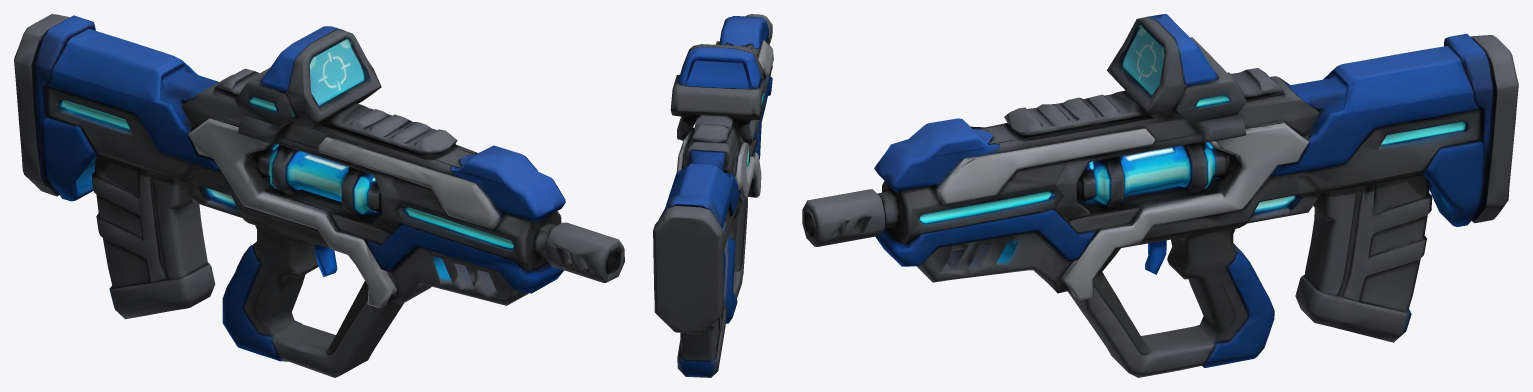
File: pulse_rifle.glb
3 renders of one model, left to right at view 1: azimuth 30°, elevation 25°; view 2: azimuth 150°, elevation 25°; view 3: azimuth 270°, elevation 25°, orthographic. The views are drawn at different scales.
Parts seen in each view (by area): view 1: tripo_node_862b96cd-0523-4ff3-9198-0bddbe70b1e3; view 2: tripo_node_862b96cd-0523-4ff3-9198-0bddbe70b1e3; view 3: tripo_node_862b96cd-0523-4ff3-9198-0bddbe70b1e3.
Boxes of the visible parts, x1=… form: tripo_node_862b96cd-0523-4ff3-9198-0bddbe70b1e3: x1=14, y1=14, x2=624, y2=377; tripo_node_862b96cd-0523-4ff3-9198-0bddbe70b1e3: x1=653, y1=14, x2=773, y2=377; tripo_node_862b96cd-0523-4ff3-9198-0bddbe70b1e3: x1=802, y1=14, x2=1518, y2=377.
Bounding box in the file's own units: 0.4654 × 0.5097 × 0.9508.
Materials: 1 (1 with a texture image).
